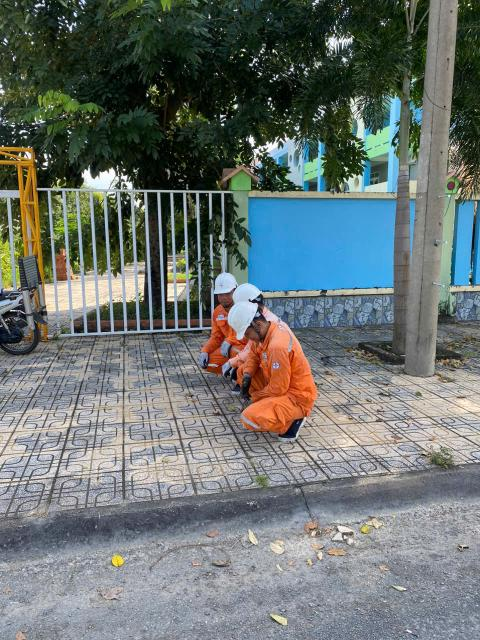gloves: (217, 354, 233, 378), (242, 370, 253, 402), (217, 339, 233, 356), (196, 353, 211, 369)
helmet: (220, 297, 266, 337), (226, 283, 268, 304), (214, 271, 239, 296)
shoes: (279, 416, 308, 441)
